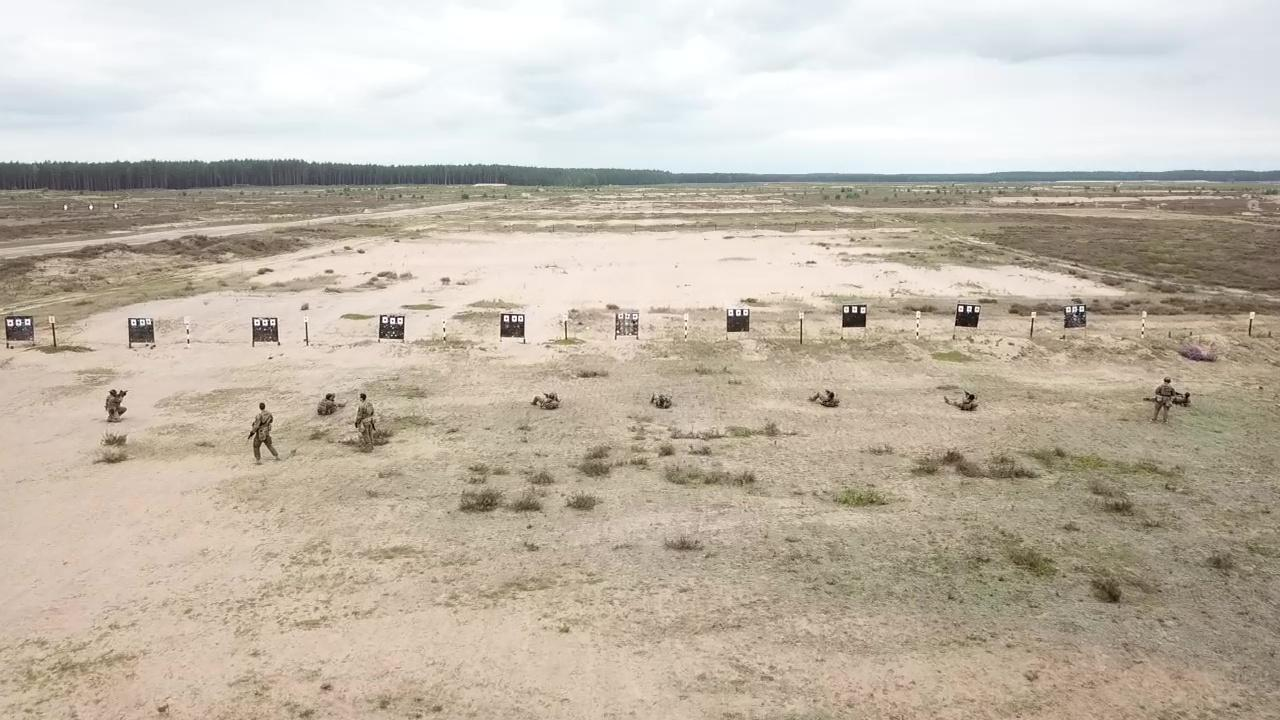Soldier: (247, 400, 283, 466), (351, 391, 380, 456), (1146, 374, 1178, 426), (101, 386, 131, 426), (940, 387, 980, 413), (315, 389, 348, 419), (806, 384, 843, 410), (530, 388, 562, 412)
